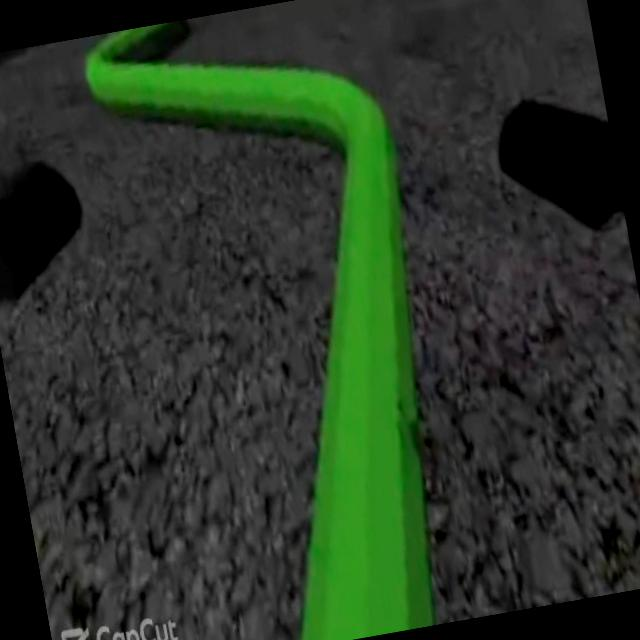gas: (213, 162, 486, 640), (110, 16, 402, 210)
